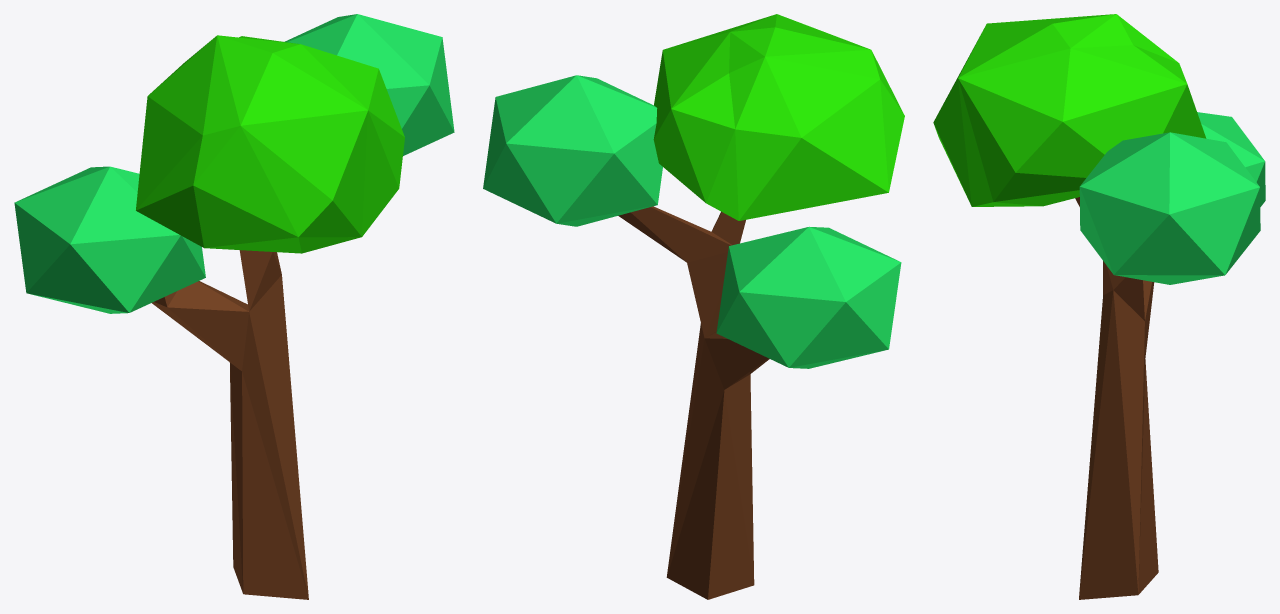
The model's file is childTree1 1.fbx.
The picture shows the model from 3 angles, left to right: view 1: azimuth 30°, elevation 25°; view 2: azimuth 150°, elevation 25°; view 3: azimuth 270°, elevation 25°; orthographic projection. The views are drawn at different scales.
Visible parts, largest first — view 1: childTree; view 2: childTree; view 3: childTree.
Boxes of the visible parts, x1,y1,x2,y2 form: childTree: (14,14,454,599); childTree: (483,14,904,599); childTree: (933,14,1265,599).
Bounding box in the file's own units: 90.53 × 119 × 65.1.
